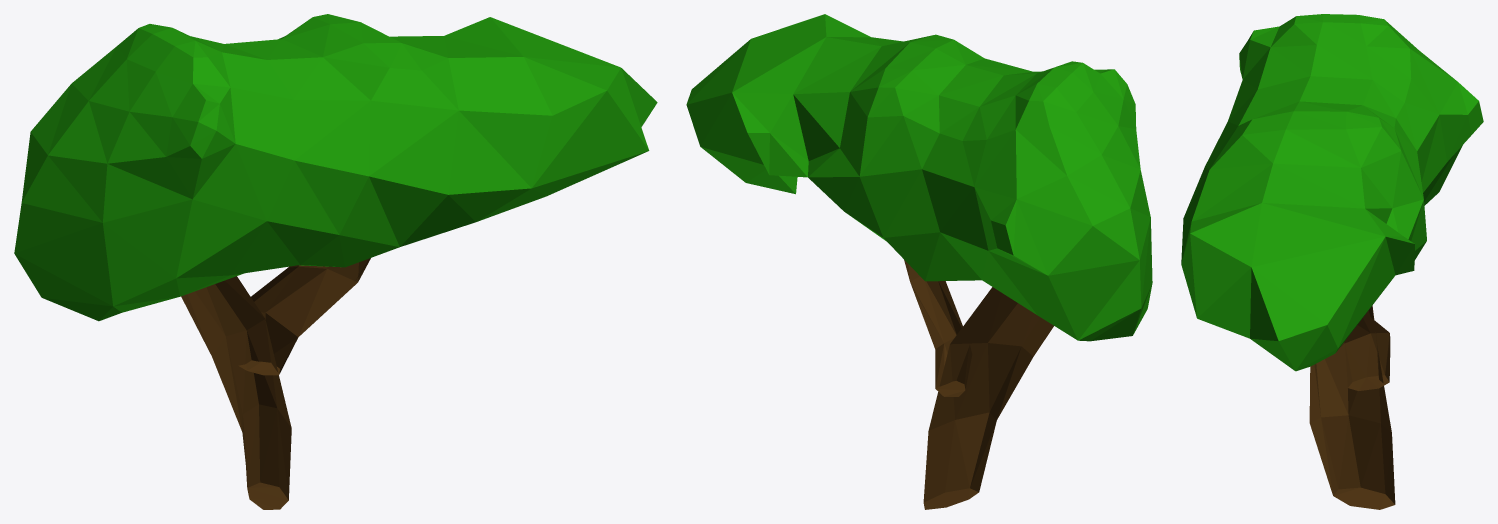
The model's file is tree_4.dae.
The picture shows the model from 3 angles, left to right: view 1: azimuth 30°, elevation 25°; view 2: azimuth 150°, elevation 25°; view 3: azimuth 270°, elevation 25°; orthographic projection. The views are drawn at different scales.
Visible parts, largest first — view 1: Icosphere.005; view 2: Icosphere.005; view 3: Icosphere.005.
Part boxes in pixels (x1,y1,x2,y2): Icosphere.005: (14,14,657,509); Icosphere.005: (686,14,1152,509); Icosphere.005: (1181,14,1483,509).
Bounding box in the file's own units: 0.00933 × 0.00482 × 0.0077.
